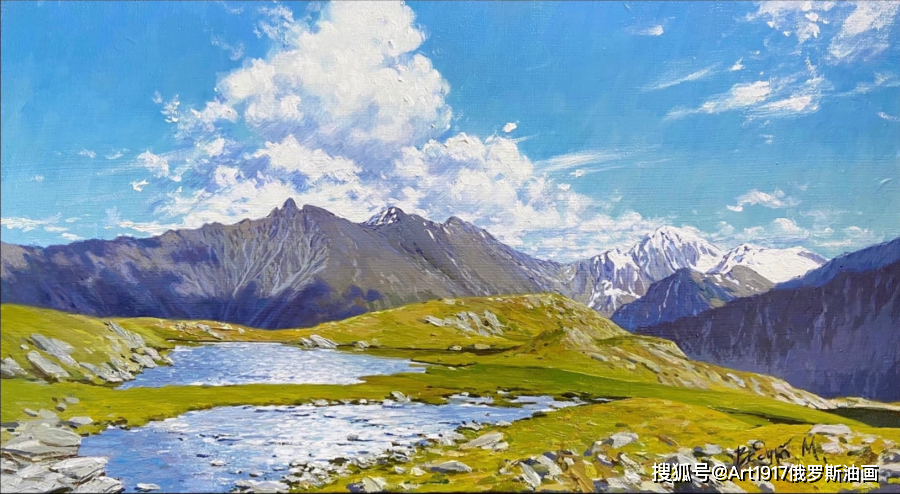mountain: (0, 180, 618, 326)
sky_cloud: (20, 39, 888, 224), (0, 54, 503, 217)
